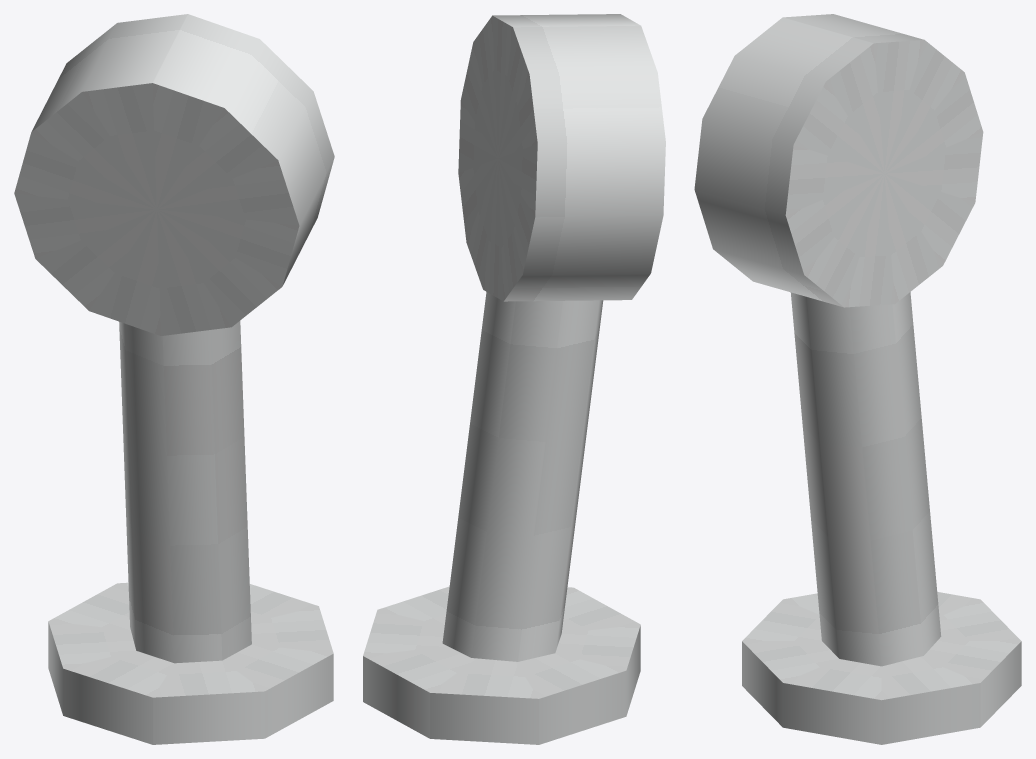
Rendered from trusssignalarm_stub_137.obj.
3 renders of one model, left to right at view 1: azimuth 30°, elevation 25°; view 2: azimuth 150°, elevation 25°; view 3: azimuth 270°, elevation 25°, orthographic. The views are drawn at different scales.
Parts seen in each view (by area): view 1: trusssignalarm_stub_137; view 2: trusssignalarm_stub_137; view 3: trusssignalarm_stub_137.
Part boxes in pixels (x1,y1,x2,y2): trusssignalarm_stub_137: (14, 14, 334, 744); trusssignalarm_stub_137: (363, 14, 665, 744); trusssignalarm_stub_137: (694, 14, 1021, 744).
Bounding box in the file's own units: 0.4095 × 0.8833 × 0.4095.
